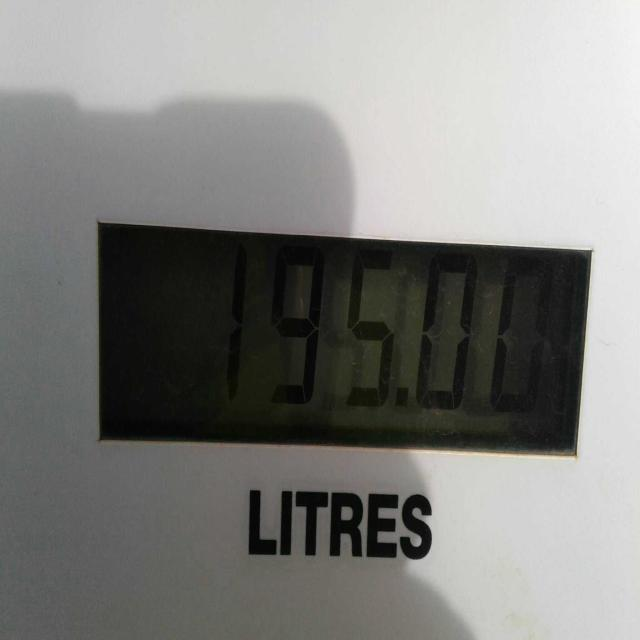.: (391, 376, 416, 428)
0: (487, 238, 563, 443), (408, 247, 481, 428)
1: (208, 233, 257, 410)
5: (332, 240, 398, 414)
9: (262, 236, 330, 417)
